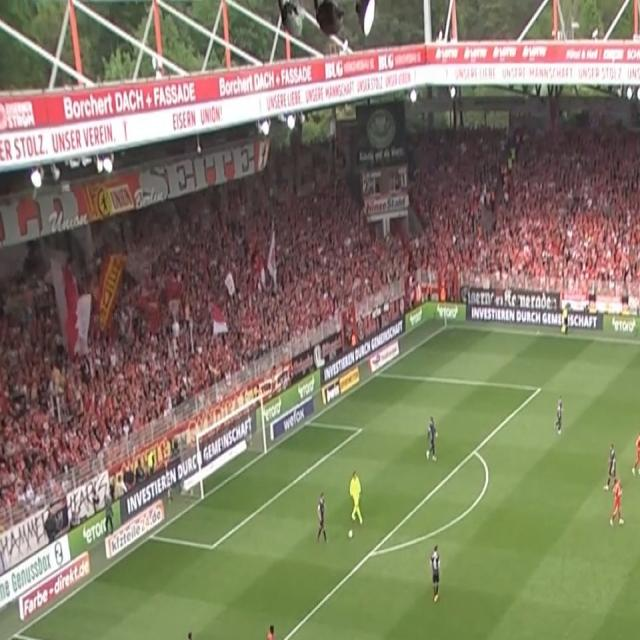ball: (347, 528, 354, 541)
